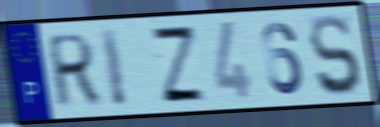4: (212, 17, 255, 104)
6: (261, 19, 306, 98)
I: (98, 25, 130, 110)
R: (47, 30, 102, 110)
S: (307, 12, 364, 99)
Z: (148, 25, 209, 105)
